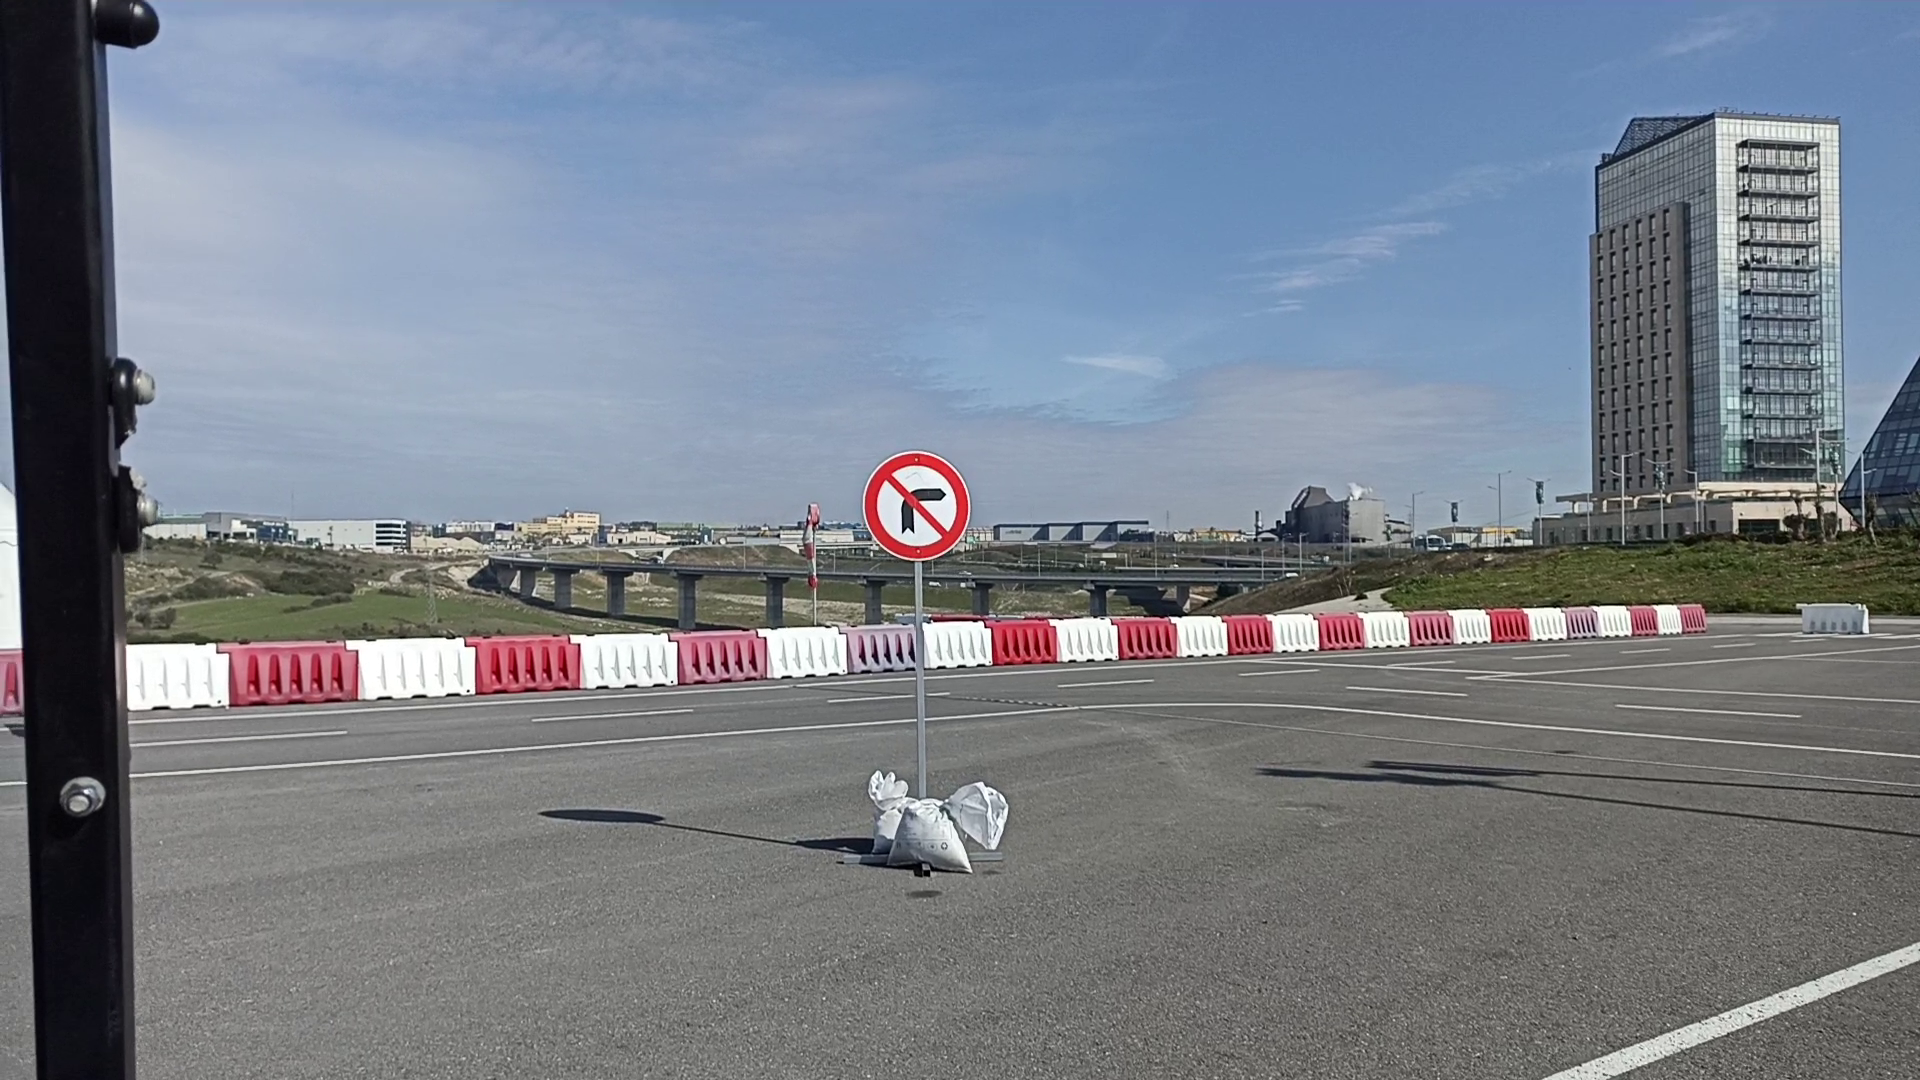noleftturn: (860, 450, 977, 562)
